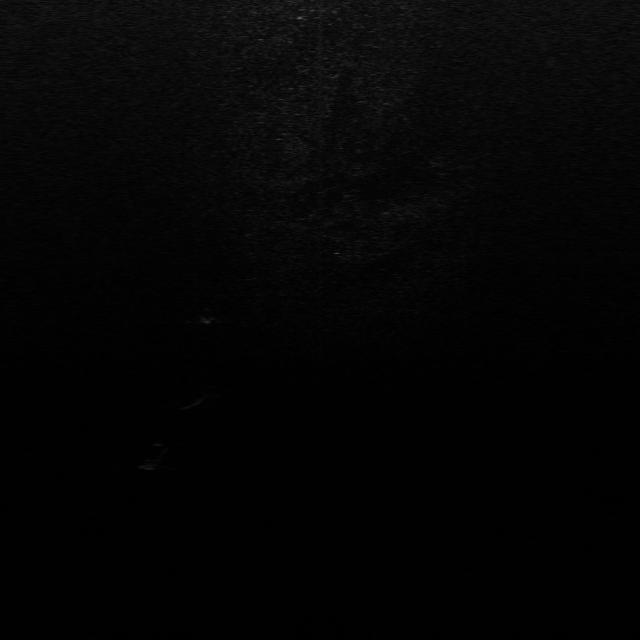ball: (193, 382, 223, 403), (193, 306, 218, 324)
tyre: (138, 441, 168, 471)
